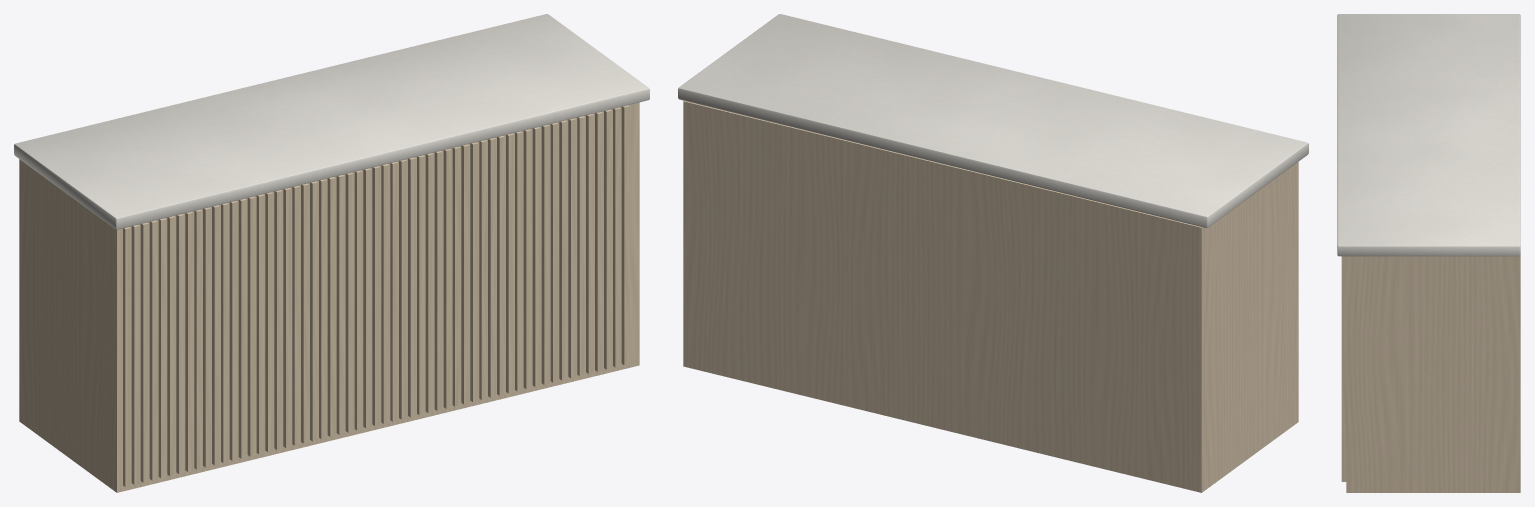
Rendered from counter.glb.
The picture shows the model from 3 angles, left to right: view 1: azimuth 30°, elevation 25°; view 2: azimuth 150°, elevation 25°; view 3: azimuth 270°, elevation 25°; orthographic projection. The views are drawn at different scales.
Parts seen in each view (by area): view 1: counter; view 2: counter; view 3: counter.
Part boxes in pixels (x1,y1,x2,y2): counter: (14, 14, 649, 492); counter: (678, 14, 1308, 492); counter: (1337, 14, 1520, 492).
Bounding box in the file's own units: 1.8 × 0.9 × 0.6.
Materials: 2 (2 with a texture image).
